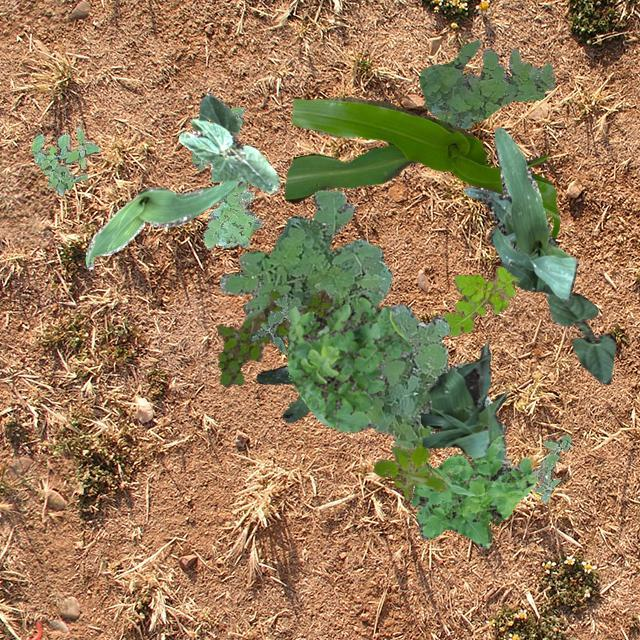crop: (284, 96, 558, 240), (462, 126, 576, 298), (85, 178, 242, 268), (419, 339, 506, 458), (178, 92, 280, 192), (545, 291, 615, 384)
weed: (218, 190, 490, 448), (286, 294, 411, 432), (409, 422, 536, 548), (418, 39, 554, 128), (216, 290, 332, 386), (442, 266, 518, 336), (31, 124, 98, 194), (372, 442, 446, 499), (202, 182, 260, 248), (190, 106, 243, 170), (256, 364, 310, 422), (248, 292, 296, 352), (530, 434, 572, 502)
